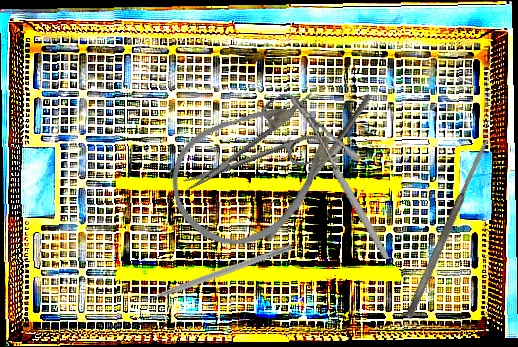Cannula: (148, 65, 366, 271)
Chopper: (132, 235, 293, 307)
Iris Scissors: (168, 87, 329, 217)
Needle Holder: (288, 84, 391, 272)
Pusher: (264, 89, 373, 246)
Spatula Surgical: (403, 135, 493, 321)
